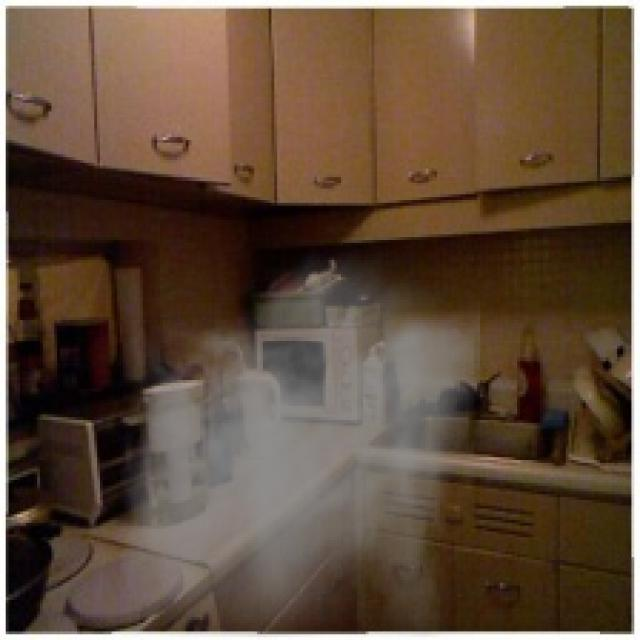smoke: (120, 240, 480, 637)
